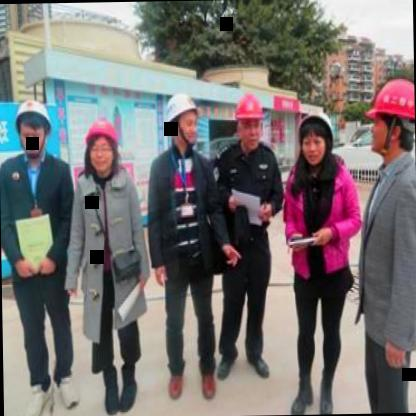helmet: (361, 74, 415, 161), (294, 106, 338, 172), (159, 86, 199, 158), (12, 94, 50, 163), (82, 112, 120, 177), (230, 89, 266, 154)
